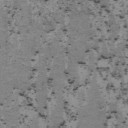oxide scale of temperature system: (64, 0, 128, 128), (12, 78, 56, 124), (28, 8, 68, 46), (5, 5, 18, 48), (58, 100, 76, 128), (28, 68, 38, 88), (64, 47, 70, 54), (34, 50, 40, 56)
